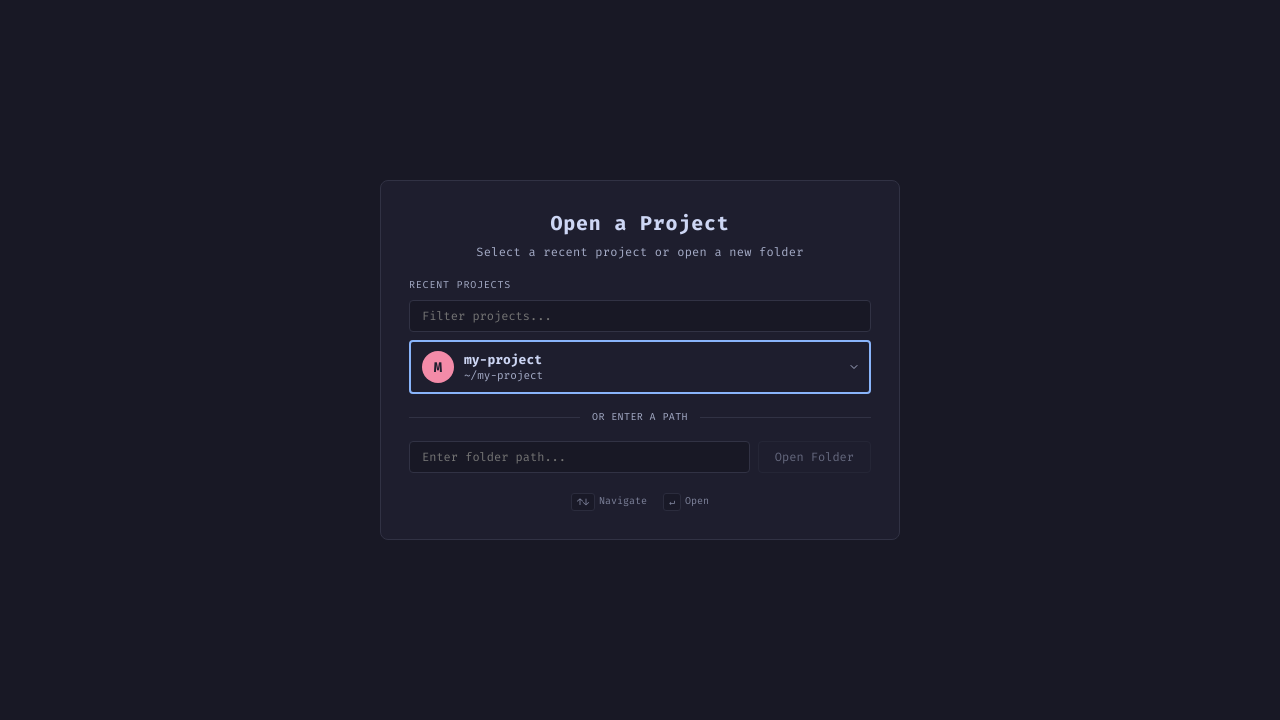
Test: ProjectPicker › worktree click › shows open badge for worktrees that are already open
Click the text "my-project".
click(503, 360)  # box left=464, top=352, right=542, bottom=367
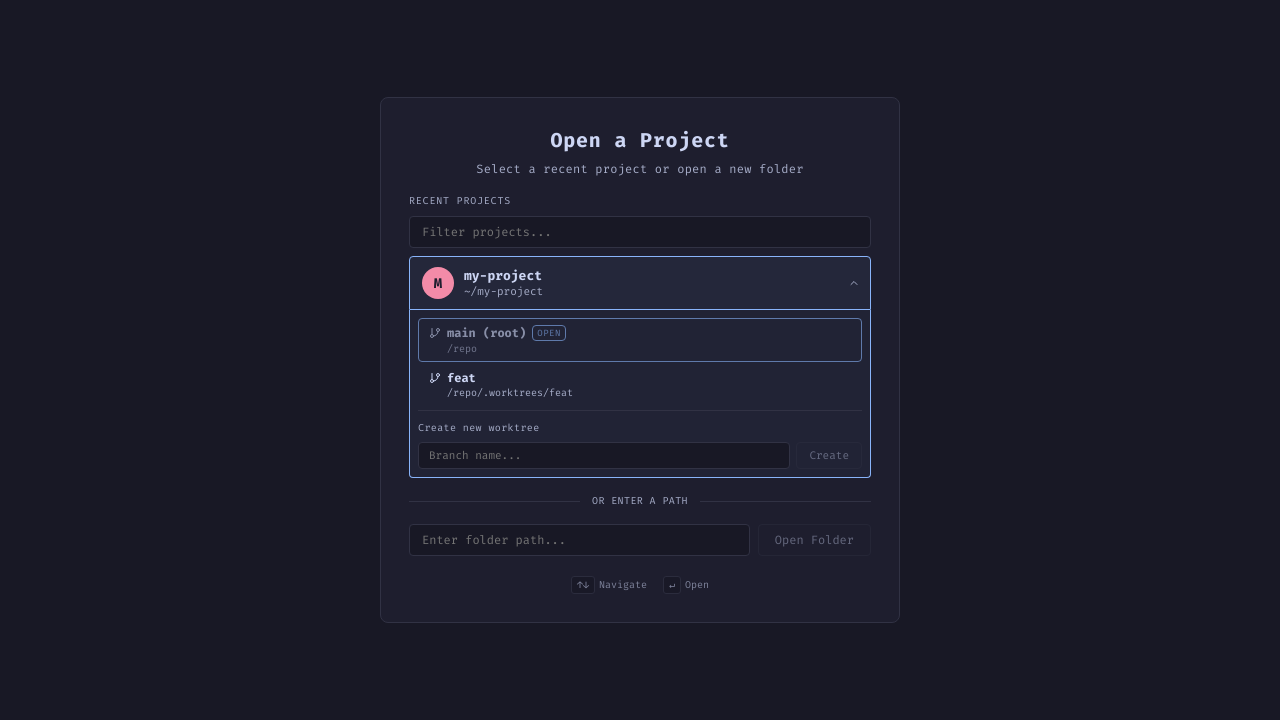
Now the text "main (root)" is shown, box left=447, top=326, right=526, bottom=340
Now the text "open" is shown, box left=532, top=325, right=566, bottom=341
